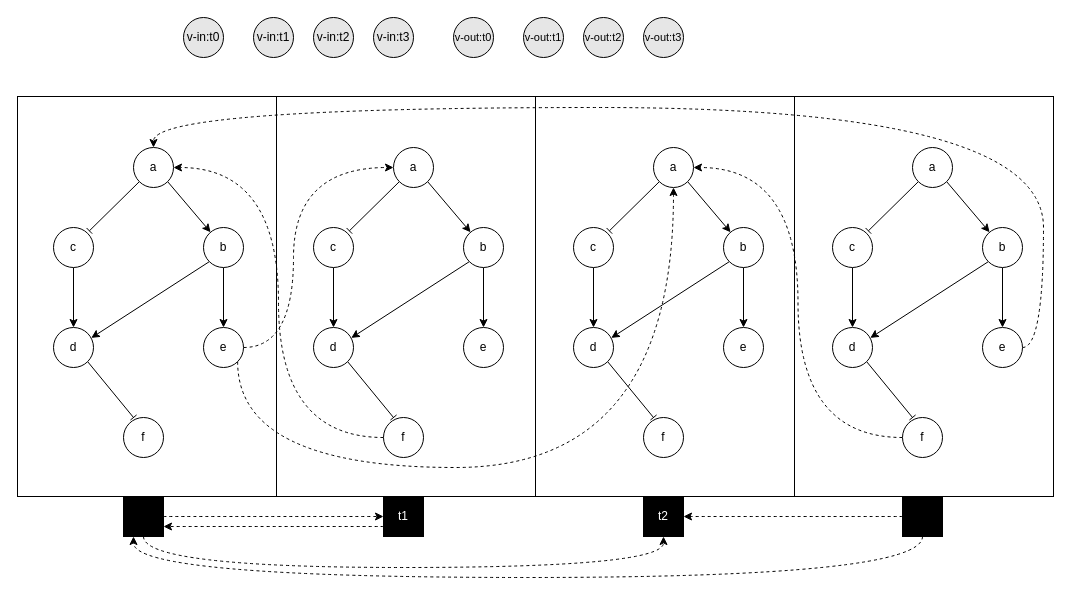
The diagram is 1071 pixels wide and 595 high, and some of its shapes have lost their labels. Each missing label, with the centre of its shape:
t0: pixel 143 516
t3: pixel 922 516
